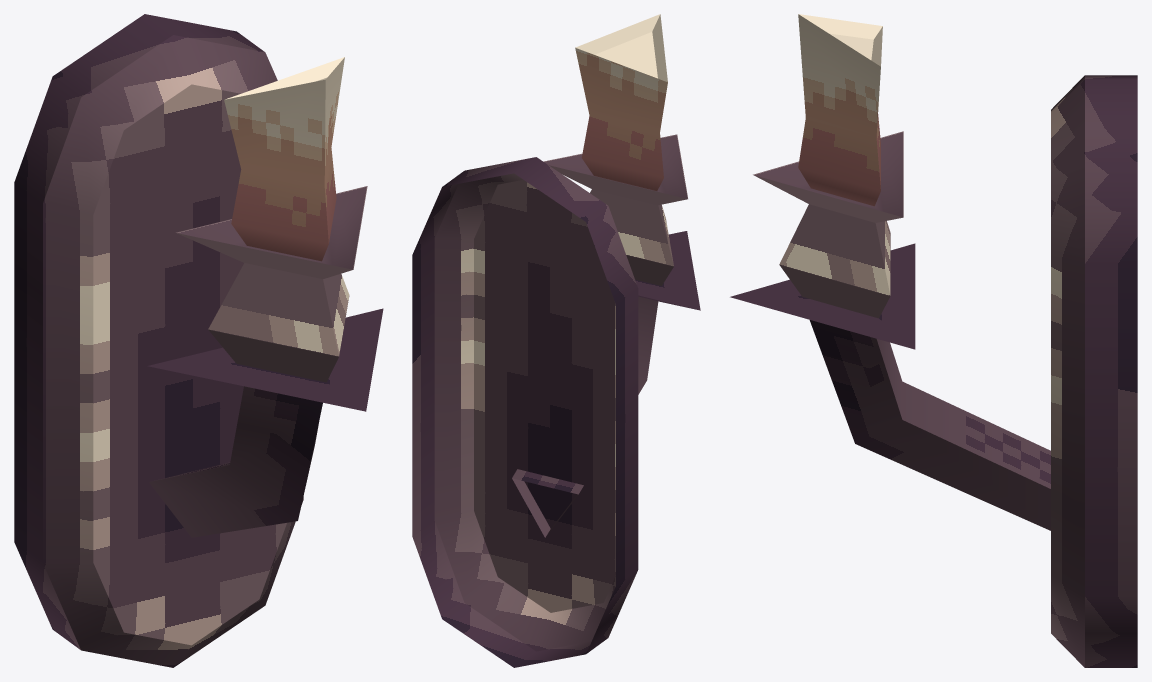
Rendered from Light_wall.fbx.
3 views of the same model, side by side, from view 1: azimuth 30°, elevation 25°; view 2: azimuth 150°, elevation 25°; view 3: azimuth 270°, elevation 25° (orthographic). The views are drawn at different scales.
Parts seen in each view (by area): view 1: Light_wall; view 2: Light_wall; view 3: Light_wall.
Part boxes in pixels (x1,y1,x2,y2): Light_wall: [14, 14, 383, 667]; Light_wall: [412, 14, 700, 667]; Light_wall: [730, 14, 1137, 667].
Size of the model in its own units: 16.01 by 41.28 by 23.57.
